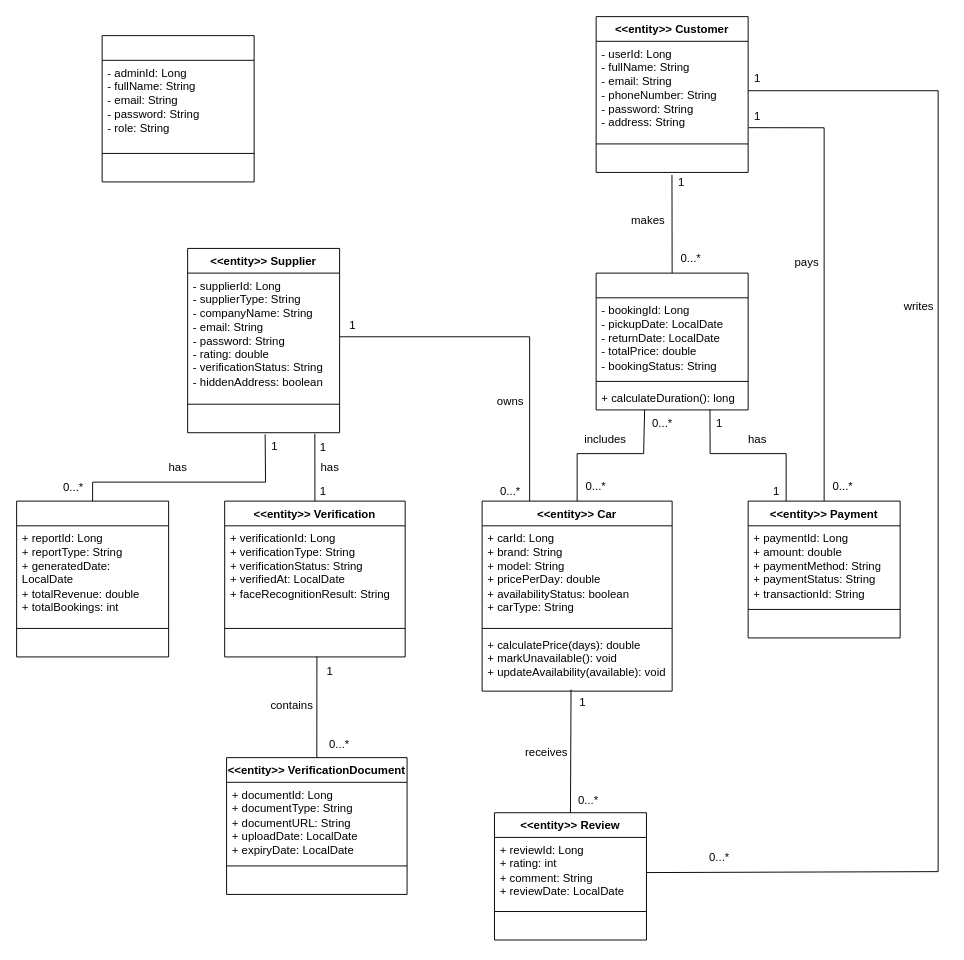
Image size: 964x960. Some labels were removed from this diagram. The shapes that lost their labels are listed below. From the top down, each one's box as (x1, y1, x2, y2) in pixels, then its label:
(101, 35, 254, 182): <<entity>> Admin
(595, 272, 748, 410): <<entity>> Booking
(16, 500, 169, 657): <<entity>> Report
